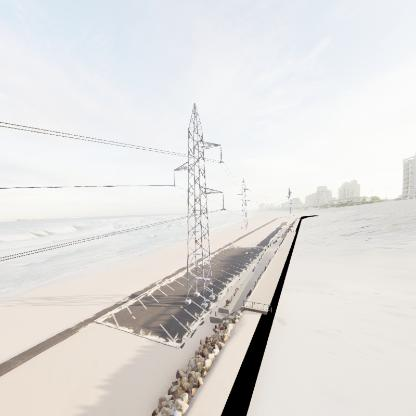tower: (170, 102, 227, 313)
